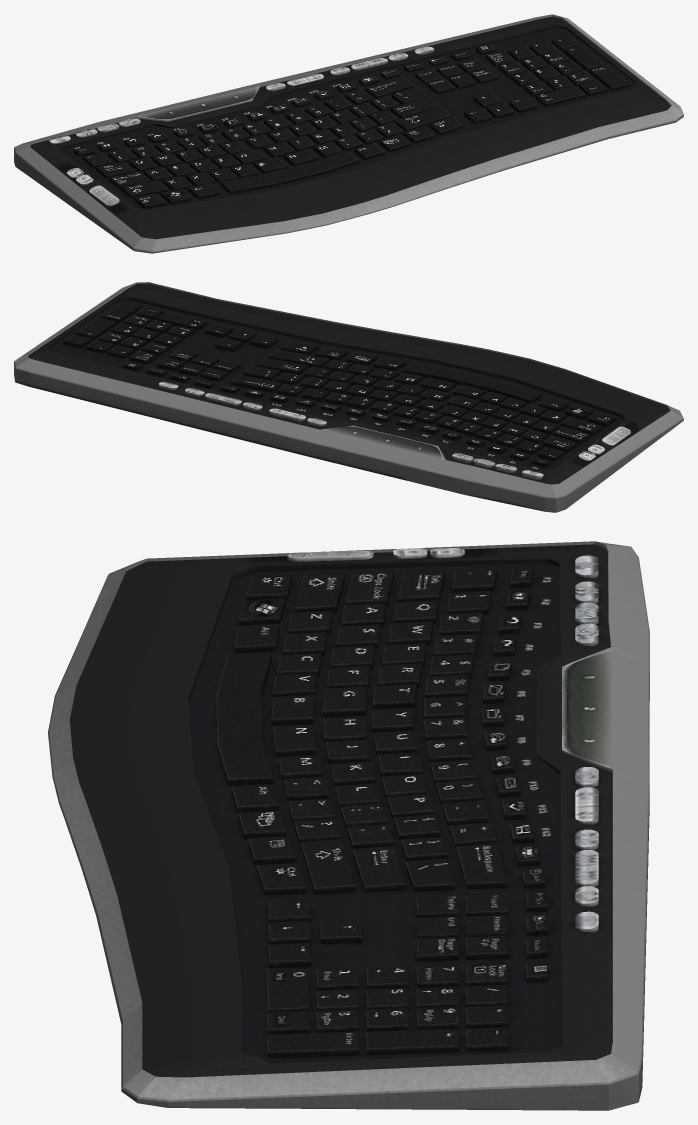
Rendered from Keyboard2.obj.
The picture shows the model from 3 angles, top to bottom: view 1: azimuth 30°, elevation 25°; view 2: azimuth 150°, elevation 25°; view 3: azimuth 270°, elevation 25°; orthographic projection. The views are drawn at different scales.
Visible parts, largest first — view 1: 10105_Computer_Keyboard_v1; view 2: 10105_Computer_Keyboard_v1; view 3: 10105_Computer_Keyboard_v1.
Part boxes in pixels (x1,y1,x2,y2): 10105_Computer_Keyboard_v1: (14, 14, 683, 253); 10105_Computer_Keyboard_v1: (14, 282, 683, 512); 10105_Computer_Keyboard_v1: (48, 541, 649, 1110).
Size of the model in its own units: 49.6 by 1.97 by 23.34.
Materials: 1 (1 with a texture image).
